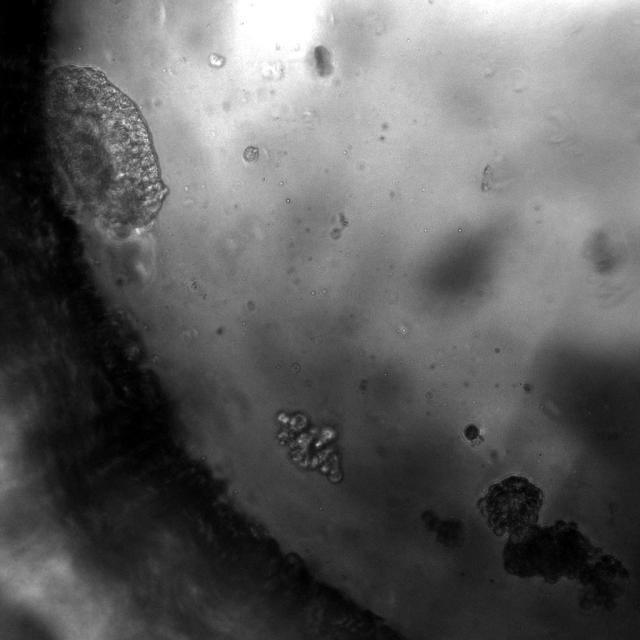organoid: (475, 474, 635, 612), (45, 65, 168, 233), (277, 411, 342, 482), (421, 509, 464, 547), (313, 45, 333, 76), (208, 53, 226, 68), (464, 424, 479, 441), (243, 147, 258, 162)
